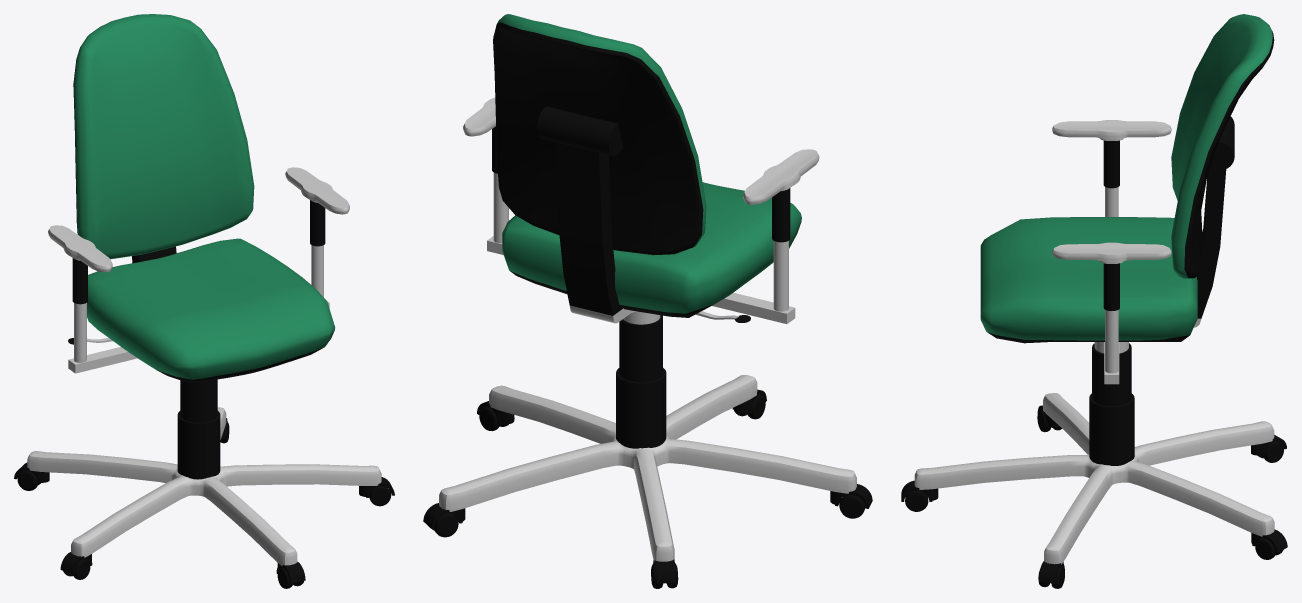
The picture shows the model from 3 angles, left to right: view 1: azimuth 30°, elevation 25°; view 2: azimuth 150°, elevation 25°; view 3: azimuth 270°, elevation 25°; orthographic projection. The views are drawn at different scales.
Visible parts, largest first — view 1: OfficeChair; view 2: OfficeChair; view 3: OfficeChair.
Boxes of the visible parts, left/top/right/bottom form: OfficeChair: left=14, top=14, right=394, bottom=588; OfficeChair: left=423, top=14, right=872, bottom=588; OfficeChair: left=901, top=14, right=1287, bottom=588.
Size of the model in its own units: 38.3 by 49.54 by 36.47.
